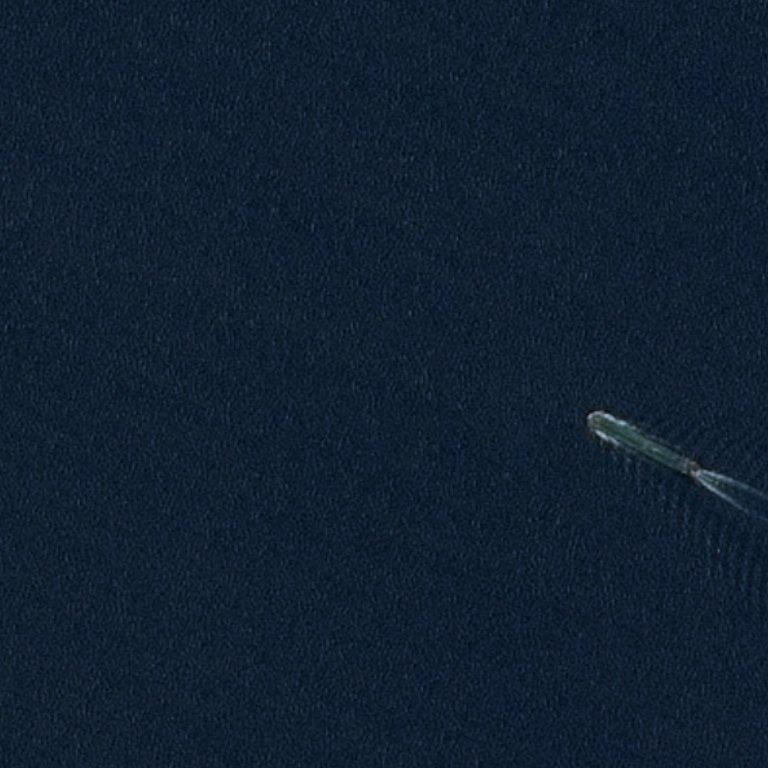ship: (619, 437, 673, 453), (586, 410, 593, 420), (696, 458, 703, 465), (692, 472, 697, 479)
